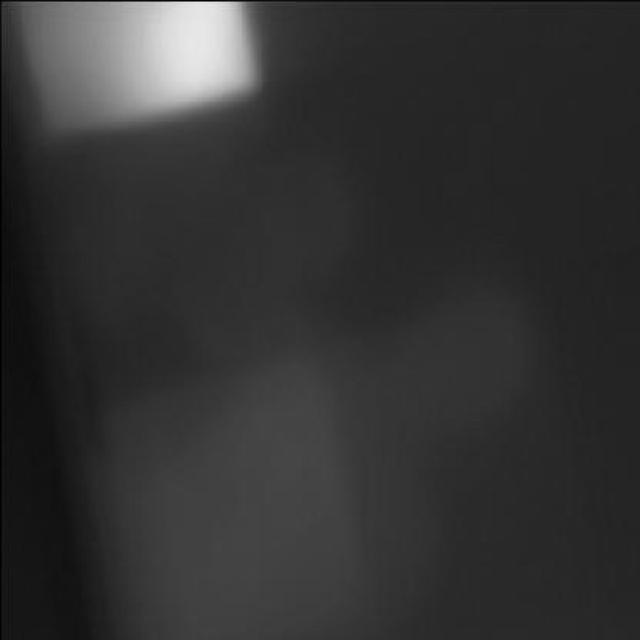hotspot: (0, 0, 265, 151)
